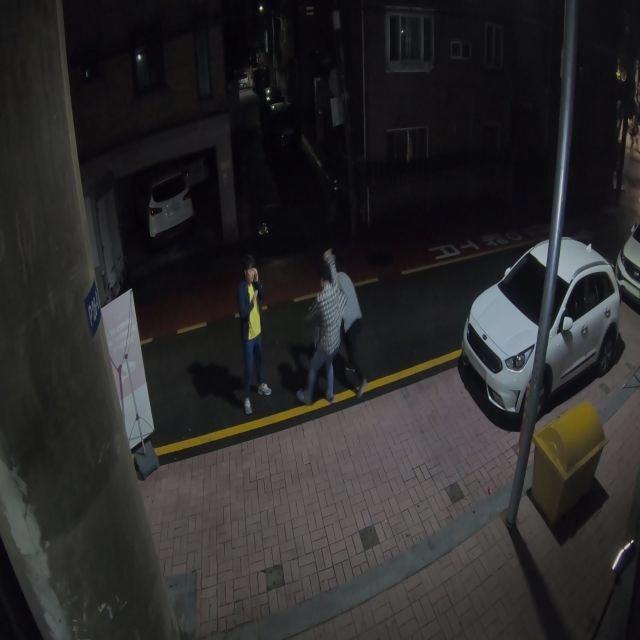fight: (294, 247, 367, 408)
non-fight: (234, 258, 275, 414)
